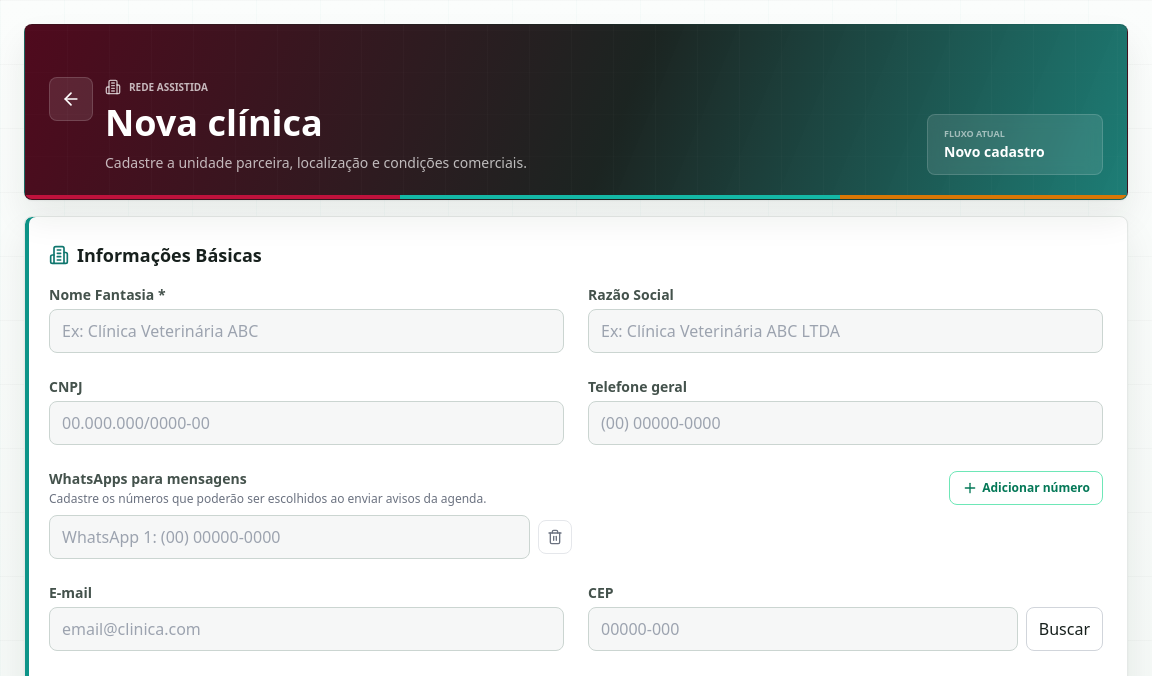
Test: geocoding exige ação explícita na clínica › consulta de CEP não exige coordenadas do geocodificador
The image size is (1152, 676).
Type "60000-000" into the field with placeholder "00000-000" at [803, 629], box [588,607,1018,651]
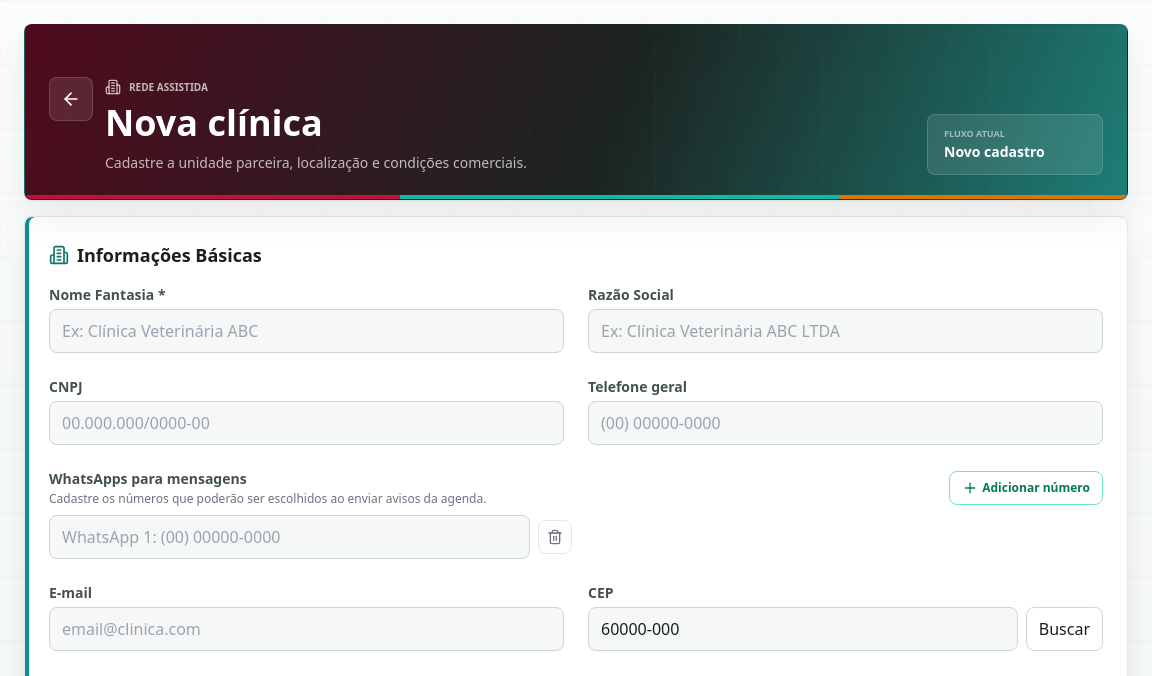
Leave the field with placeholder "00000-000", box [588,607,1018,651]
(page scrolled)
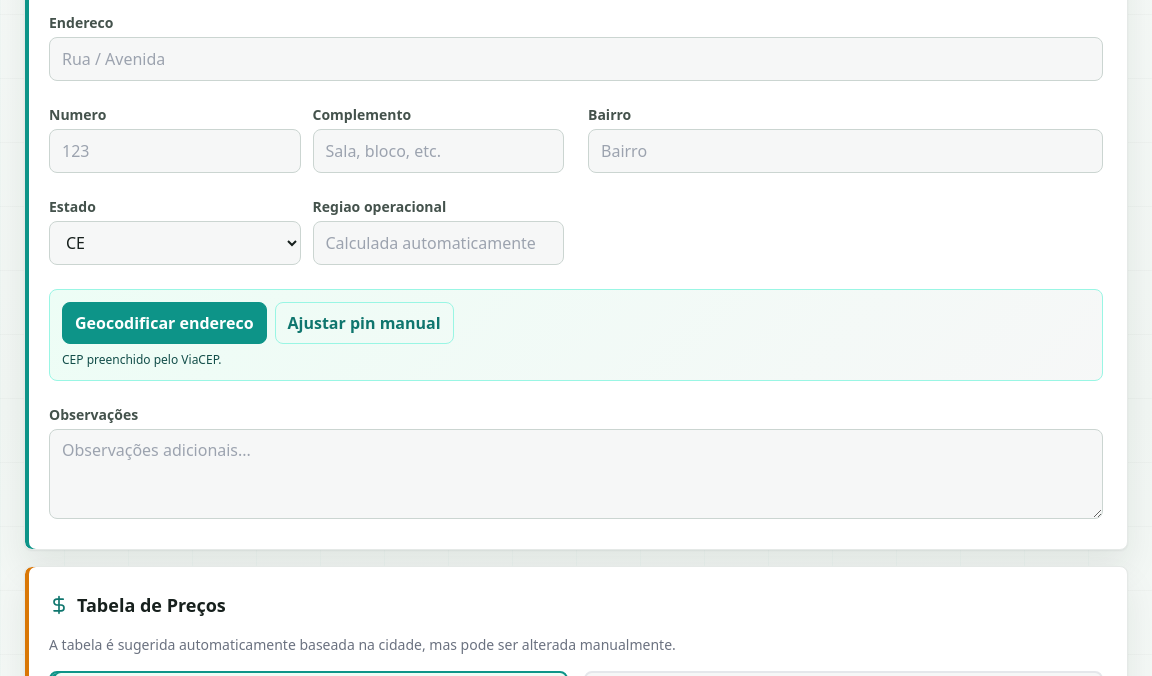
expect the text "CEP preenchido pelo ViaCEP." is shown: met, box [62,351,222,368]
